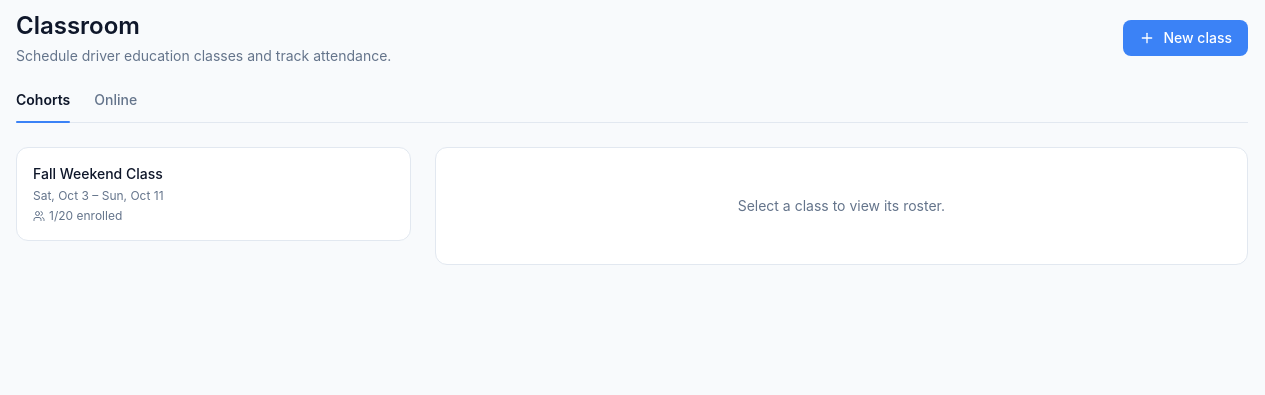
it: Classroom page - roster › tags a make-up guest whose home cohort is elsewhere
The width and height of the screenshot is (1265, 395).
Click the text "Fall Weekend Class". click: (98, 174)
box: [33,164,163,184]
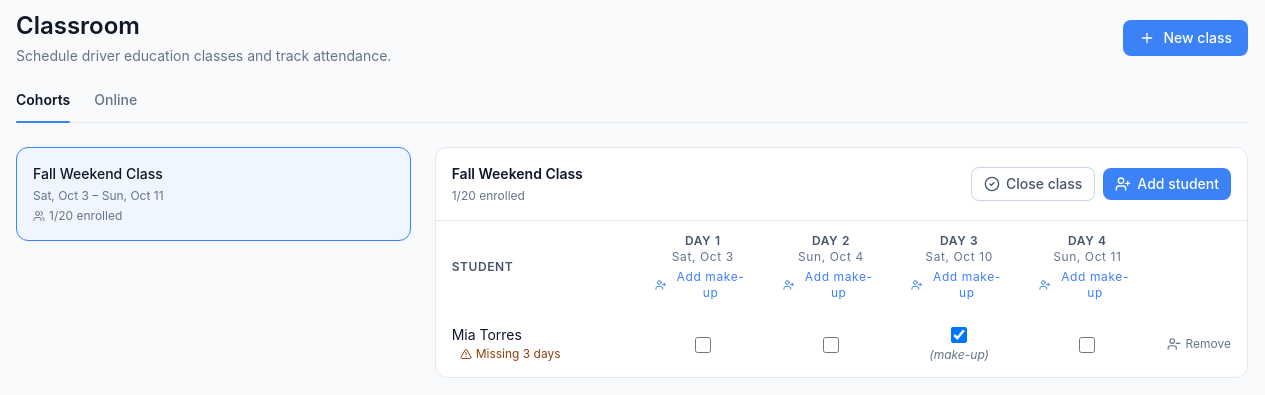
Now the text "Mia Torres" is shown, box [452,326,522,343]
Now the text "(make-up)" is shown, box [929,347,989,363]
